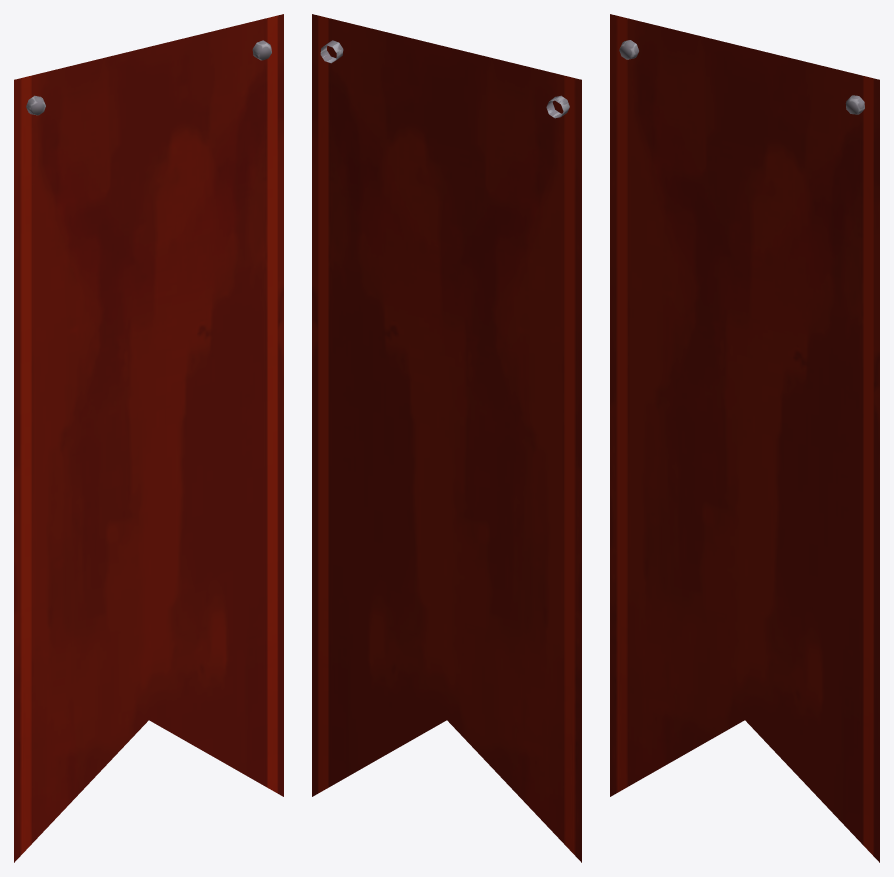
Rendered from Banner_1_Cloth.glb.
3 views of the same model, side by side, from view 1: azimuth 30°, elevation 25°; view 2: azimuth 150°, elevation 25°; view 3: azimuth 330°, elevation 25° (orthographic).
Parts seen in each view (by area): view 1: Banner_1_Cloth; view 2: Banner_1_Cloth; view 3: Banner_1_Cloth.
Boxes of the visible parts, box(x1,y1,x2,y2) form: Banner_1_Cloth: box(14, 14, 283, 862); Banner_1_Cloth: box(312, 14, 581, 862); Banner_1_Cloth: box(610, 14, 879, 862).
Bounding box in the file's own units: 0.8101 × 2.25 × 0.0568.
2 materials, 2 textured.
